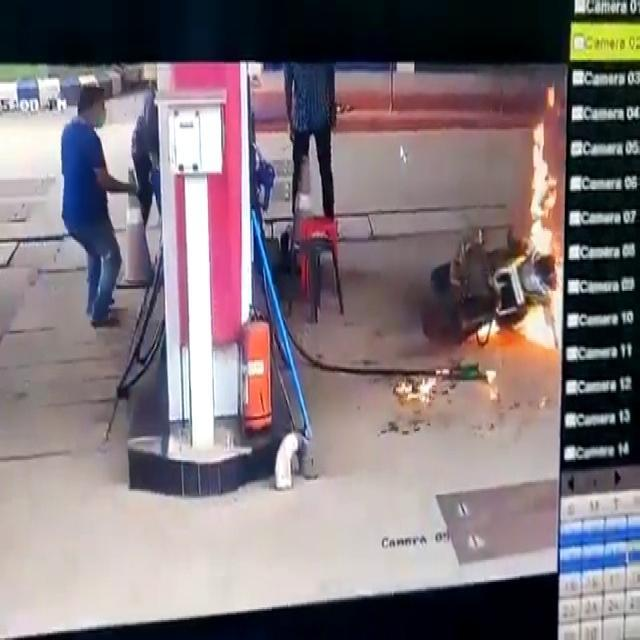Fire: (507, 94, 564, 350), (394, 369, 439, 407), (475, 312, 501, 348)
